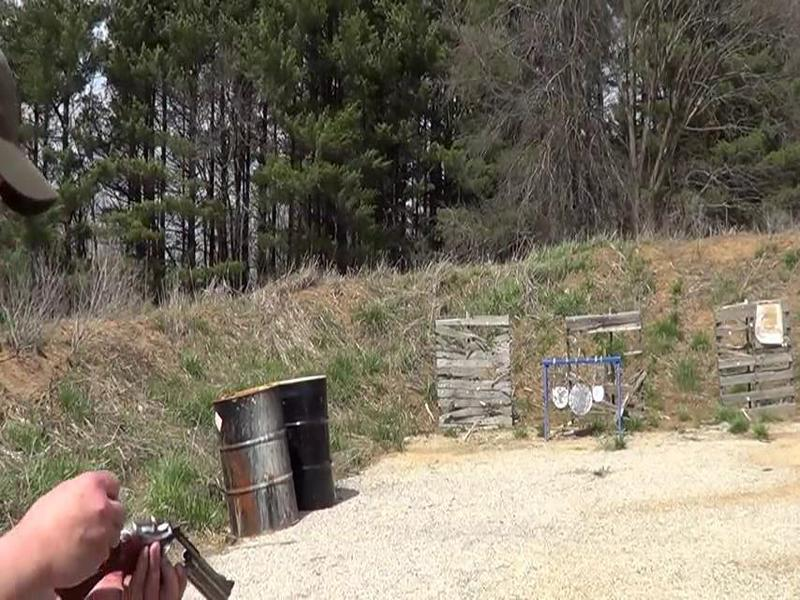Revolver: (57, 504, 244, 600)
